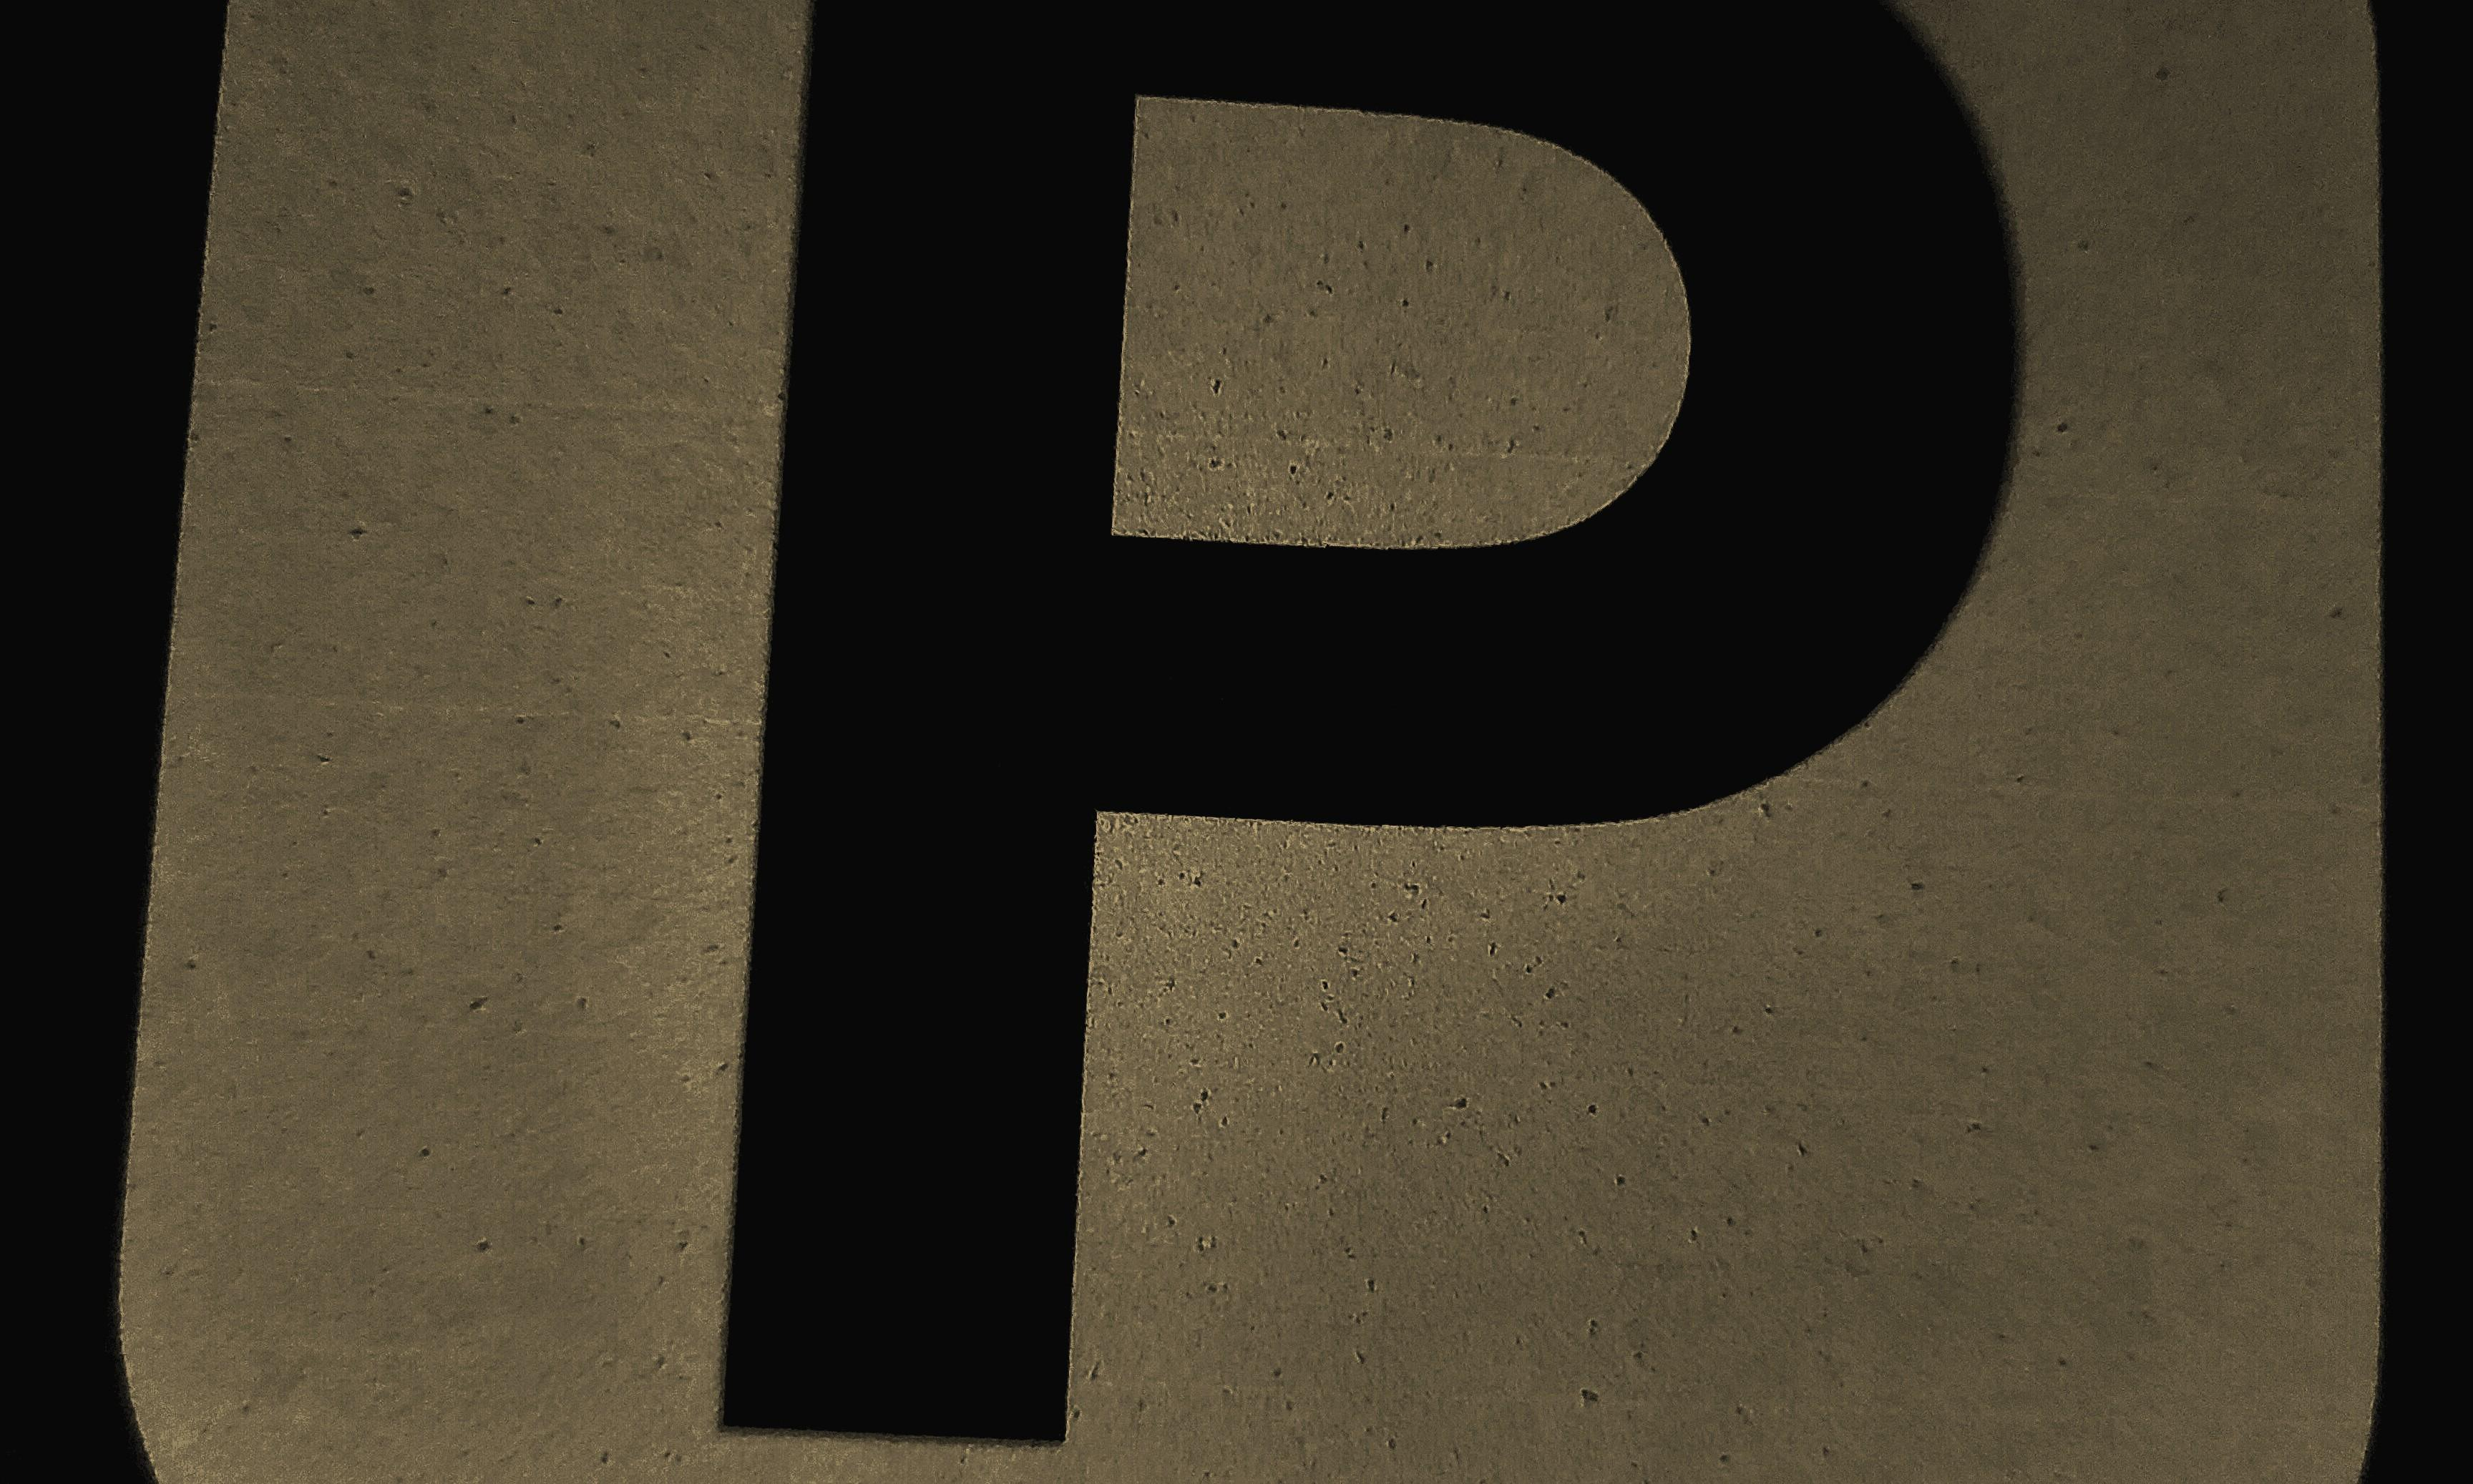parking: (115, 11, 2372, 1484)
